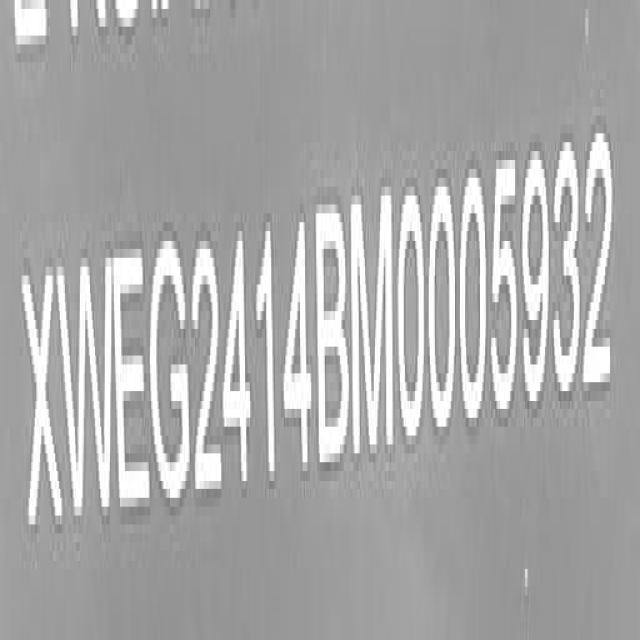0: (398, 181, 429, 446), (458, 163, 485, 433), (430, 176, 457, 442)
1: (256, 216, 278, 492)
2: (194, 236, 226, 511), (587, 125, 618, 393)
3: (552, 136, 580, 404)
4: (284, 208, 316, 485), (223, 233, 253, 500)
5: (492, 146, 520, 421)
9: (522, 149, 550, 412)
B: (317, 200, 350, 476)
E: (116, 244, 150, 526)
G: (152, 239, 190, 516)
M: (350, 184, 396, 468)
W: (59, 253, 113, 541)
X: (21, 254, 63, 542)
